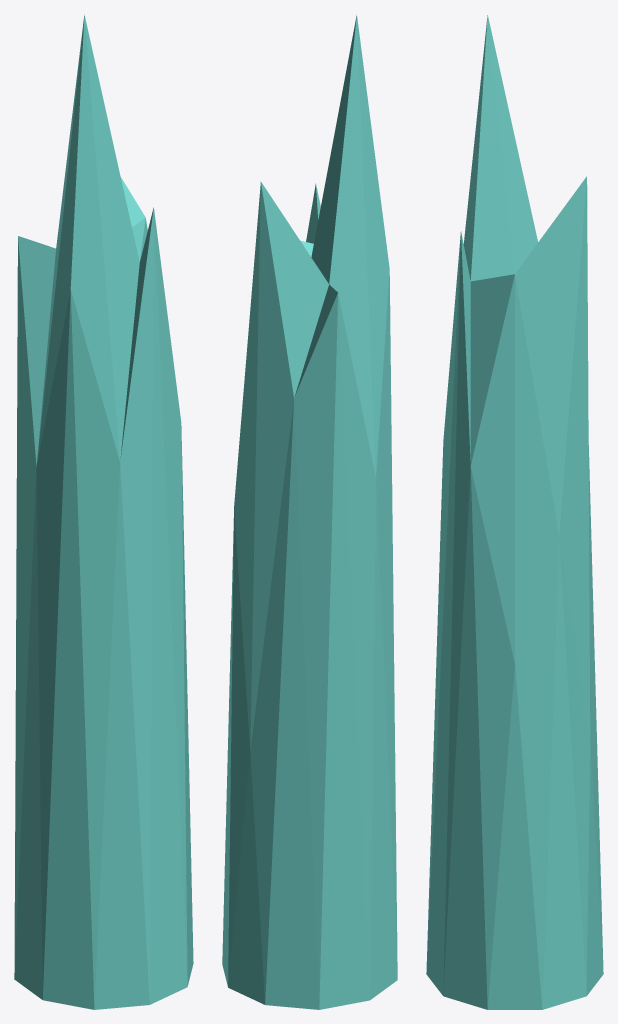
File: pilar.fbx
The picture shows the model from 3 angles, left to right: view 1: azimuth 30°, elevation 25°; view 2: azimuth 150°, elevation 25°; view 3: azimuth 270°, elevation 25°; orthographic projection. The views are drawn at different scales.
Visible parts, largest first — view 1: node_id4; view 2: node_id4; view 3: node_id4.
Boxes of the visible parts, <box> form: node_id4: <box>14,14,193,1009</box>; node_id4: <box>222,14,397,1009</box>; node_id4: <box>426,15,603,1009</box>.
Size of the model in its own units: 21.73 by 134 by 22.85.
